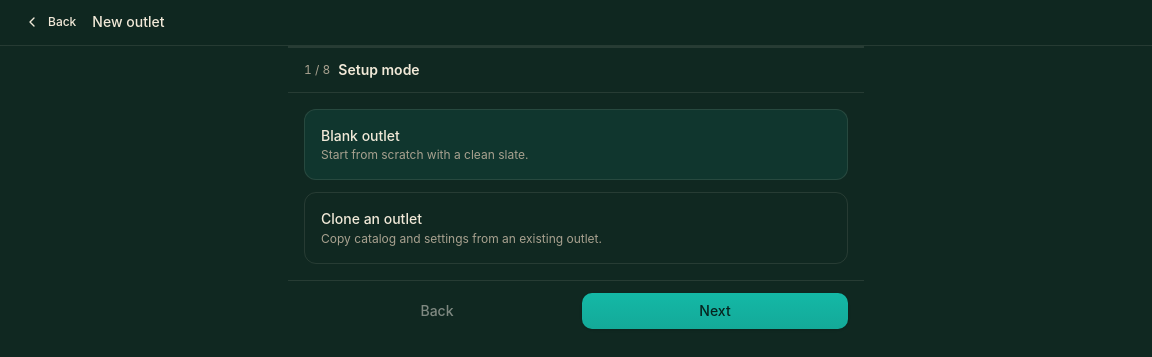
CockpitOutletNew wizard › step 1: Next is enabled when a non-dup code is entered
Click the button with test id "btn-next": (715, 310) [582,292,848,328]
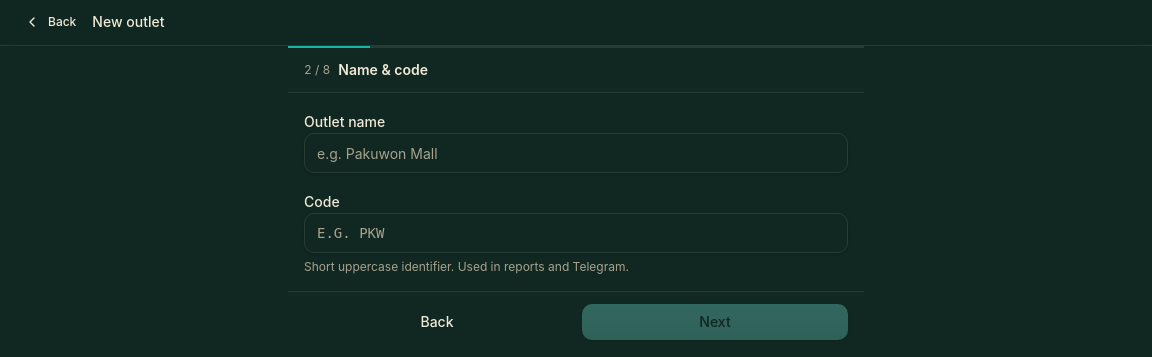
Expected: the field labelled "Outlet name" is shown
In the field labelled "Outlet name": (576, 153) [304,133,848,173], type "New Branch"
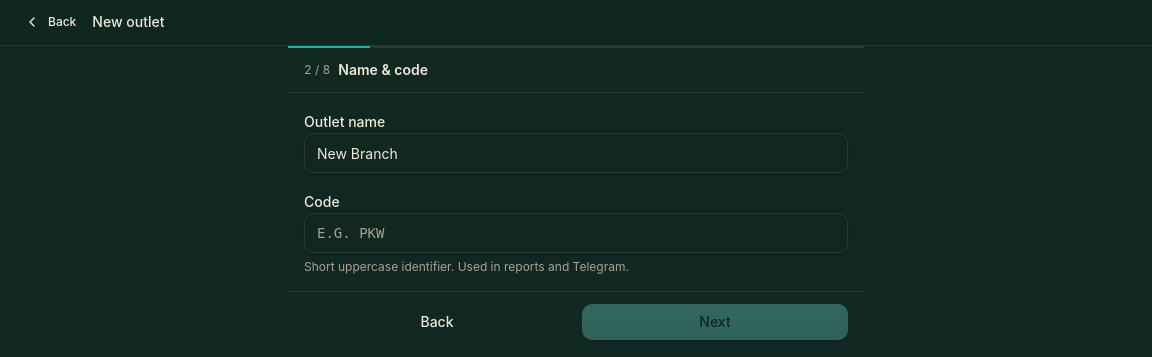
In the field labelled "Code": (576, 233) [304,213,848,253], type "NEW"
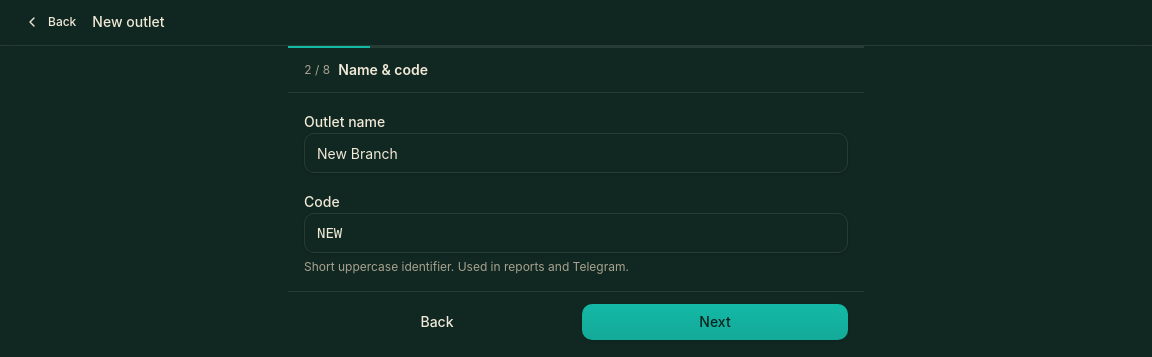
Expected: the button with test id "btn-next" is enabled, [582,304,848,340]
